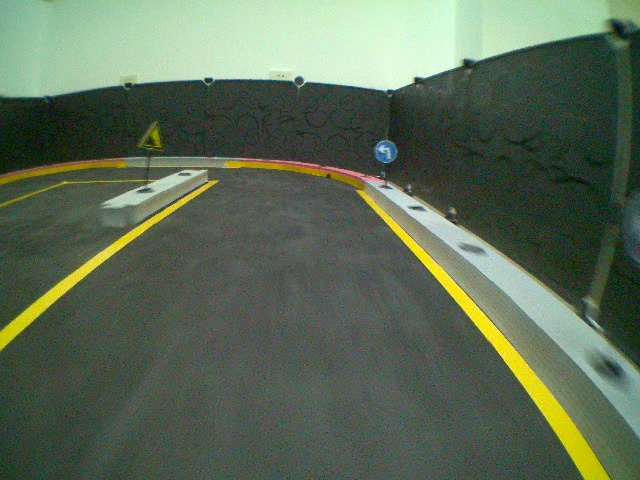fast: (137, 120, 166, 154)
turn: (374, 139, 399, 163)
